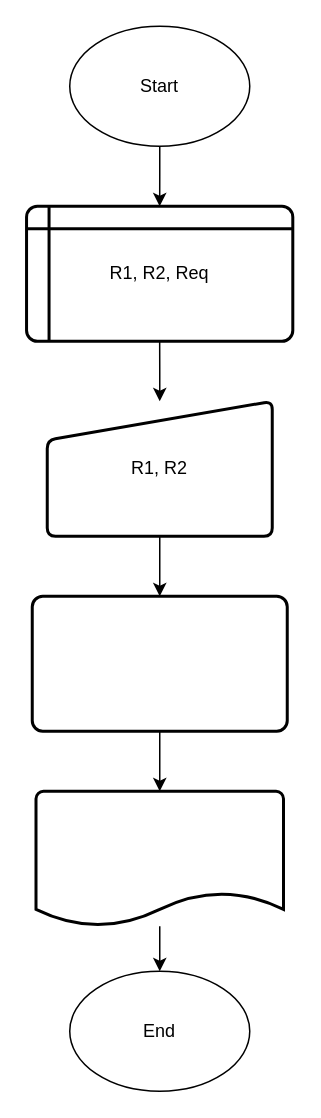
This 321x1118 diagram has some shape labels left out. The shapes that lost their labels are listed below. From the top down, each one's centre as x and y in pixels, then its label:
At (x=159, y=663): "Req = (R1 * R2) / (R1 + R2)".
At (x=159, y=858): "Req".
